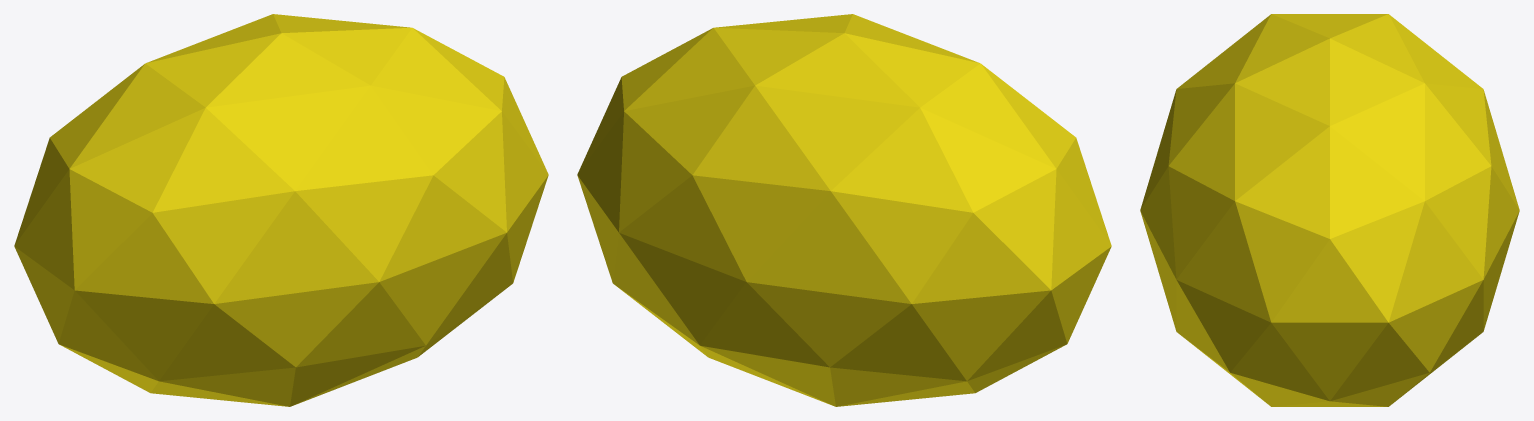
File: Lemon.gltf
3 views of the same model, side by side, from view 1: azimuth 30°, elevation 25°; view 2: azimuth 150°, elevation 25°; view 3: azimuth 270°, elevation 25° (orthographic). The views are drawn at different scales.
Visible parts, largest first — view 1: Lemon; view 2: Lemon; view 3: Lemon.
Part boxes in pixels (<box>): Lemon: <box>14,14,548,406</box>; Lemon: <box>577,14,1111,406</box>; Lemon: <box>1140,14,1519,406</box>.
Size of the model in its own units: 0.1119 by 0.08 by 0.08.
